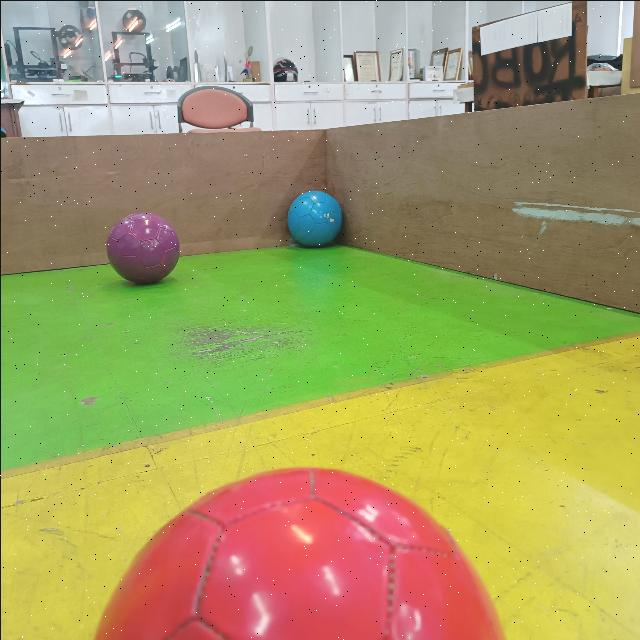B: (284, 186, 344, 248)
P: (104, 210, 180, 286)
R: (81, 460, 513, 640)
